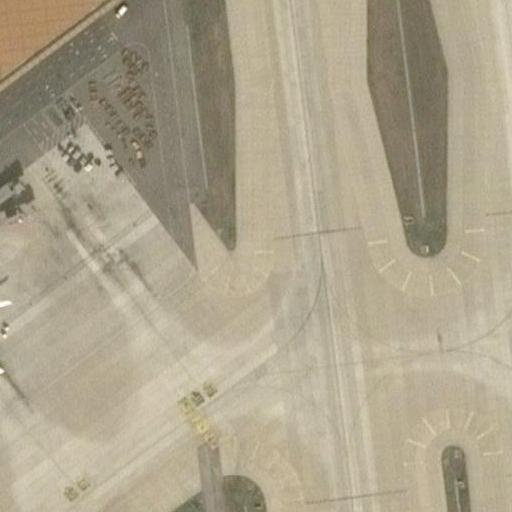Aircraft: (0, 267, 18, 404)
